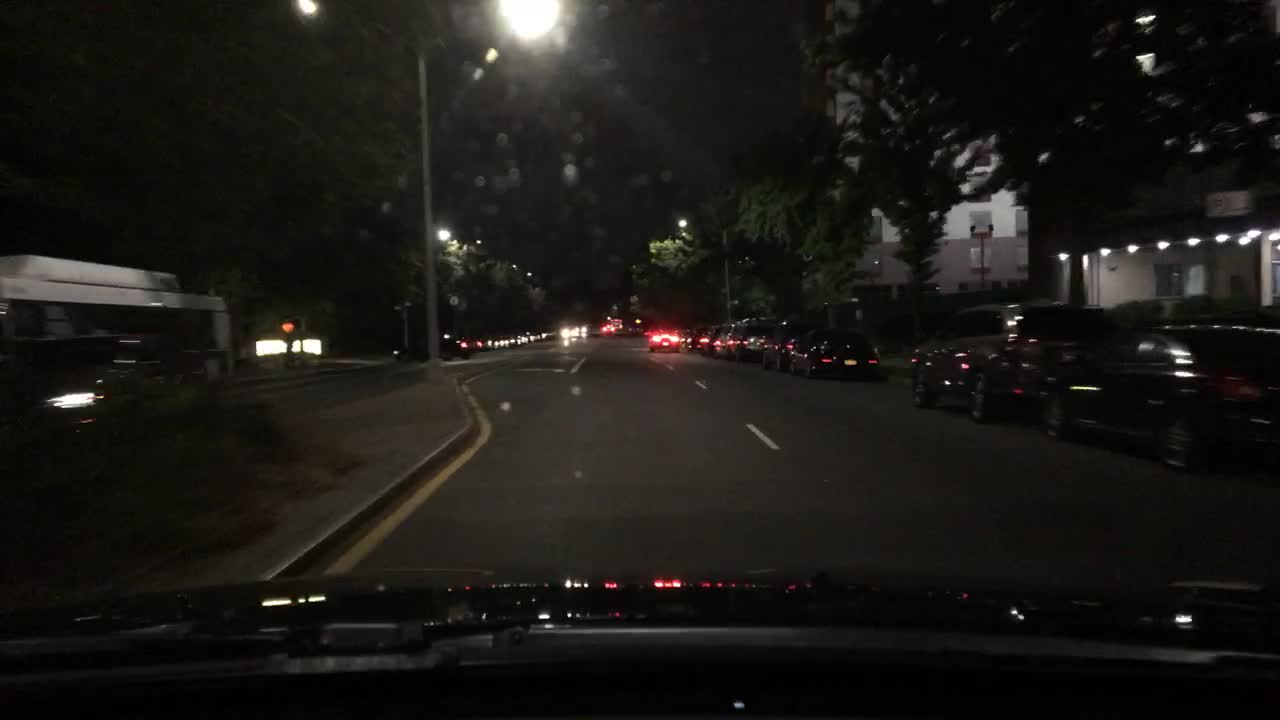bus: (0, 252, 236, 381)
car: (1036, 297, 1277, 469), (909, 297, 1108, 424), (0, 361, 210, 475), (785, 323, 885, 378), (761, 317, 813, 368), (724, 316, 778, 362), (440, 334, 480, 361), (646, 324, 681, 352), (709, 324, 735, 359), (391, 345, 430, 364), (685, 328, 715, 350), (674, 329, 694, 348), (477, 337, 495, 350), (598, 324, 617, 336), (541, 329, 559, 339), (528, 333, 544, 342), (562, 329, 576, 339), (498, 337, 509, 347), (576, 331, 590, 338), (518, 333, 527, 343), (508, 337, 518, 343)
traffic light: (278, 320, 296, 331)
traffic sign: (1206, 188, 1253, 217)
